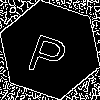P: (25, 25, 73, 79)
